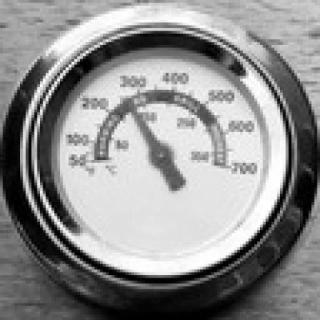gauge: (9, 8, 320, 304), (80, 147, 119, 178), (201, 152, 236, 182), (145, 140, 176, 170), (120, 94, 136, 106)
